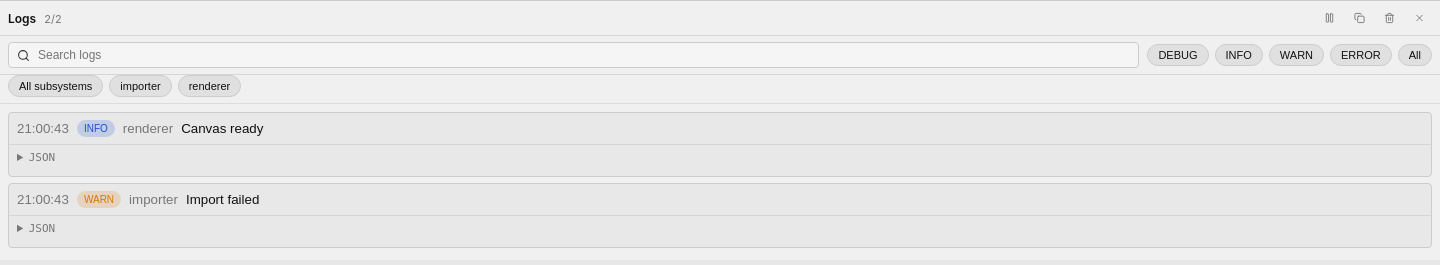
Test case: LogConsole › filters log entries by search text
Check: the text "2/2" is shown, box [44,12,62,26]
Type "Canvas" into the search field with placeholder "Search logs" at x=583, y=55, box [36,43,1130,67]
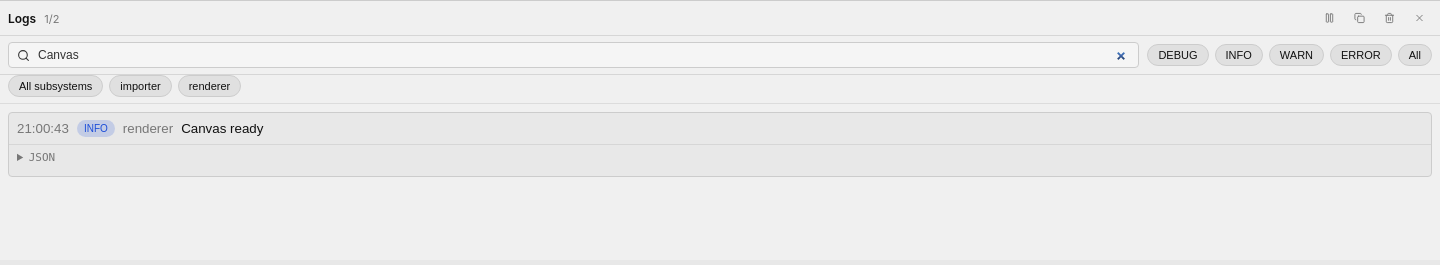
Check: the text "Canvas ready" is shown, box [181,121,263,136]
Check: the text "1/2" is shown, box [44,12,59,26]
Check: the button "Import failed" is gone
